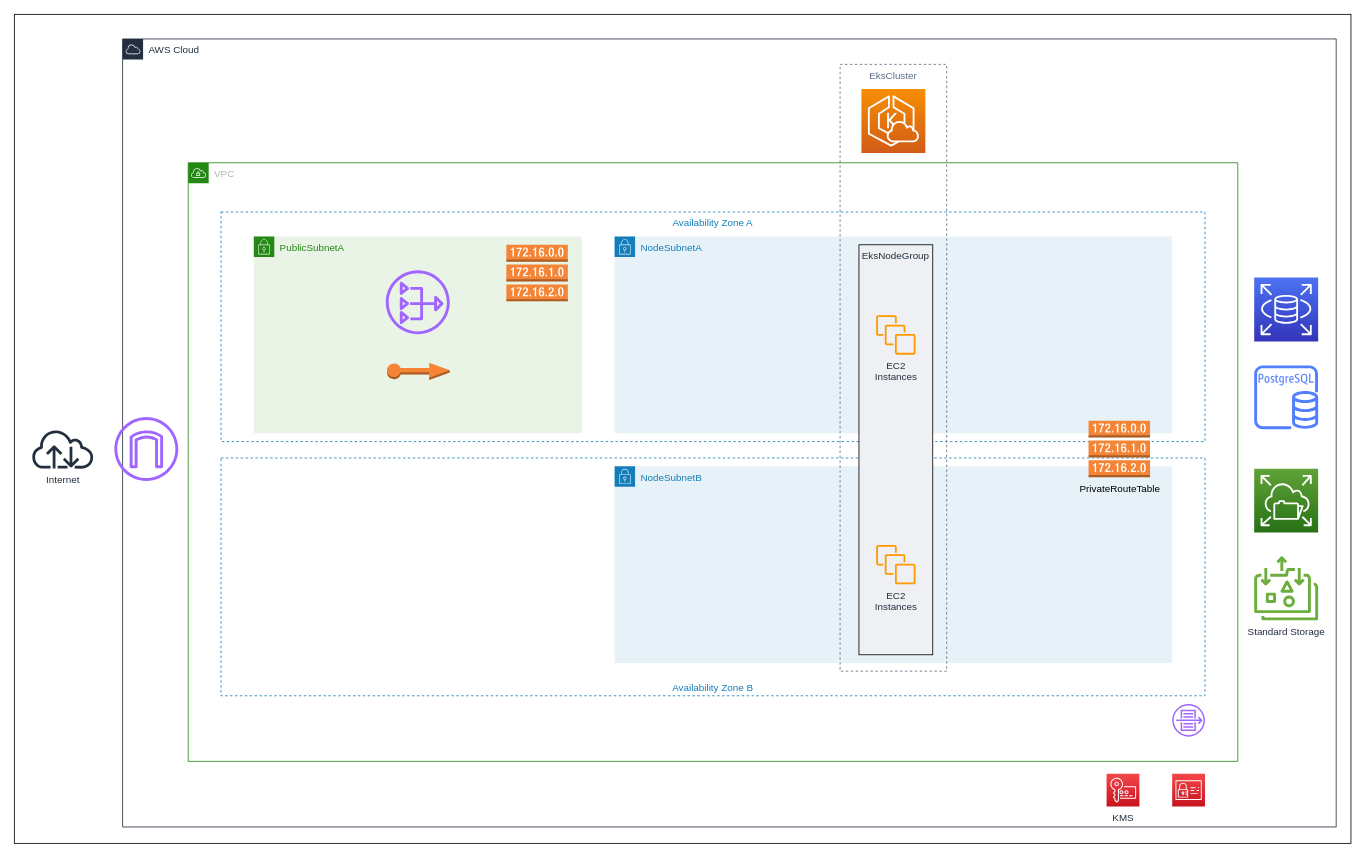
Image size: 1365x858. Some labels were removed from this diagram. Each missing label, with the centre of its shape:
EFS: point 1285,500
Flow Log: point 1188,720
IAM: point 1188,789
IGW: point 146,449
NatGatewayA: point 417,302
NatGatewayAEip: point 418,371
PublicRouteTable: point 537,272
RDS: point 1285,309
